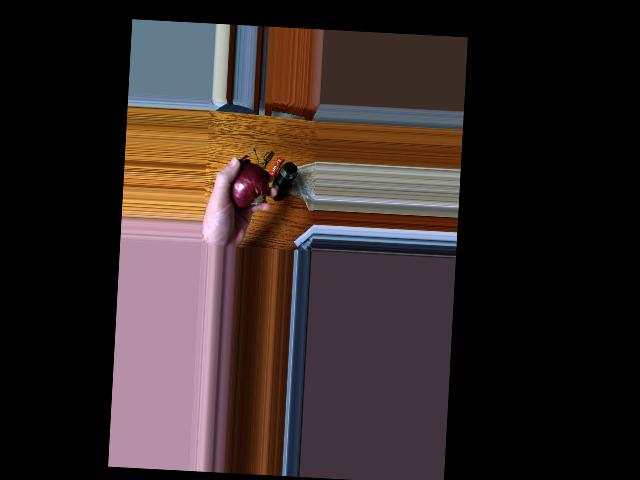onion: (224, 166, 264, 206)
